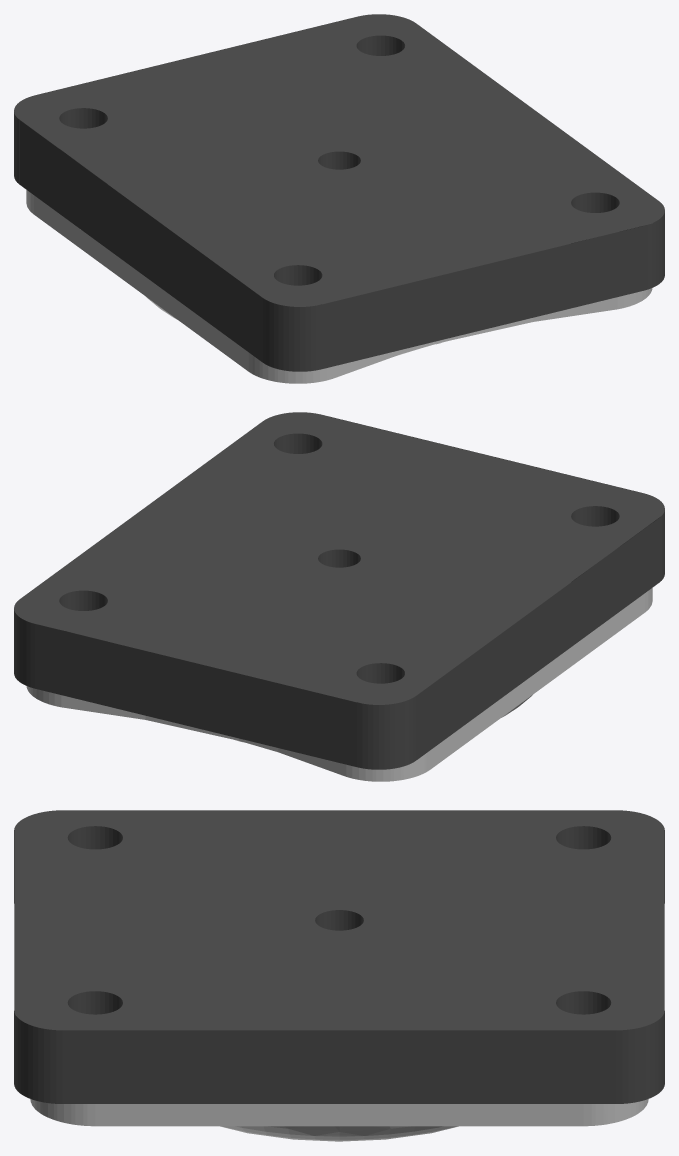
File: caster_wheel_mount.dae
The picture shows the model from 3 angles, top to bottom: view 1: azimuth 30°, elevation 25°; view 2: azimuth 150°, elevation 25°; view 3: azimuth 270°, elevation 25°; orthographic projection. The views are drawn at different scales.
Visible parts, largest first — view 1: caster_wheel_mount; view 2: caster_wheel_mount; view 3: caster_wheel_mount.
Boxes of the visible parts, x1=… form: caster_wheel_mount: x1=14, y1=14, x2=664, y2=383; caster_wheel_mount: x1=14, y1=412, x2=664, y2=781; caster_wheel_mount: x1=14, y1=810, x2=664, y2=1141.
Bounding box in the file's own units: 0.032 × 0.04 × 0.009.
1 material, 1 textured.
